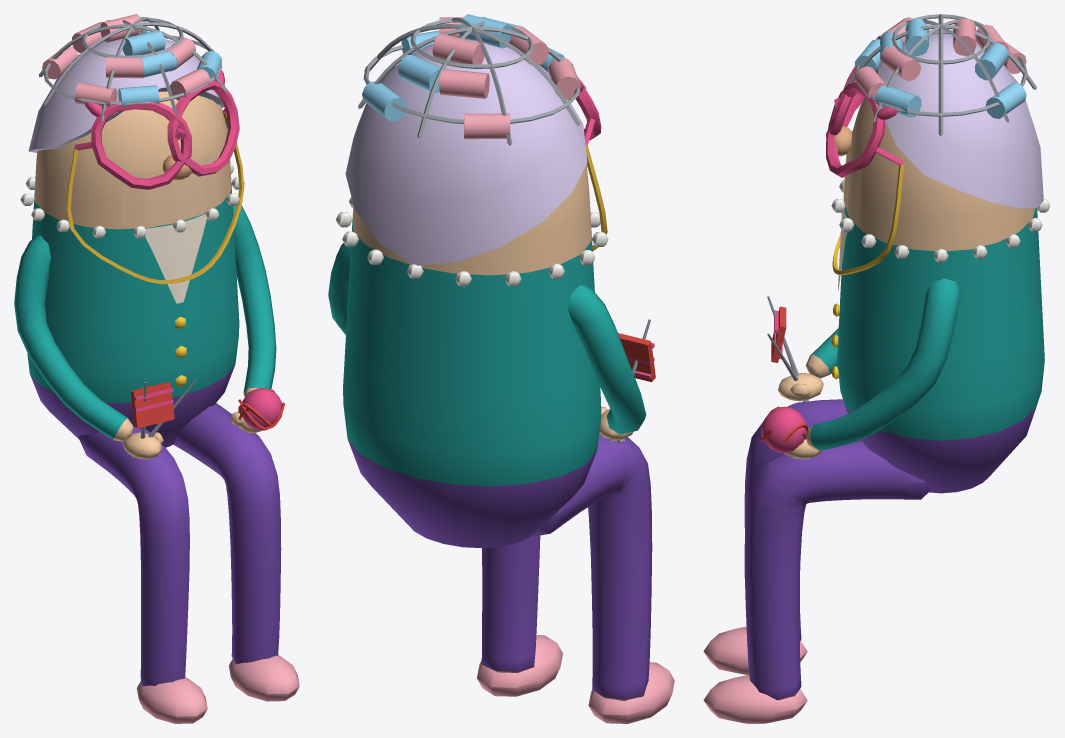
File: VivoAbuela.fbx
The picture shows the model from 3 angles, left to right: view 1: azimuth 30°, elevation 25°; view 2: azimuth 150°, elevation 25°; view 3: azimuth 270°, elevation 25°; orthographic projection. The views are drawn at different scales.
Visible parts, largest first — view 1: Cuerpo, PiernaIzq, PiernaDer, BrazoDer, BrazoIzq, Boca; view 2: Cuerpo, PiernaDer, PiernaIzq, BrazoDer, BrazoIzq; view 3: Cuerpo, PiernaIzq, BrazoIzq, PiernaDer, BrazoDer, Boca.
Boxes of the visible parts, bbox=[...] form: Cuerpo: bbox=[20, 14, 244, 447]; PiernaIzq: bbox=[173, 403, 299, 701]; PiernaDer: bbox=[78, 427, 207, 723]; BrazoDer: bbox=[14, 235, 196, 459]; BrazoIzq: bbox=[230, 205, 285, 433]; Boca: bbox=[122, 151, 218, 225]; Cuerpo: bbox=[336, 14, 608, 548]; PiernaDer: bbox=[531, 433, 674, 723]; PiernaIzq: bbox=[477, 535, 562, 696]; BrazoDer: bbox=[568, 285, 655, 442]; BrazoIzq: bbox=[328, 243, 350, 334]; Cuerpo: bbox=[826, 14, 1050, 493]; PiernaIzq: bbox=[703, 441, 930, 723]; BrazoIzq: bbox=[760, 278, 960, 459]; PiernaDer: bbox=[703, 399, 859, 674]; BrazoDer: bbox=[767, 296, 838, 402]; Boca: bbox=[843, 130, 862, 224].
Size of the model in its own units: 2.11 by 5.07 by 2.39.
2 materials, 1 textured.
